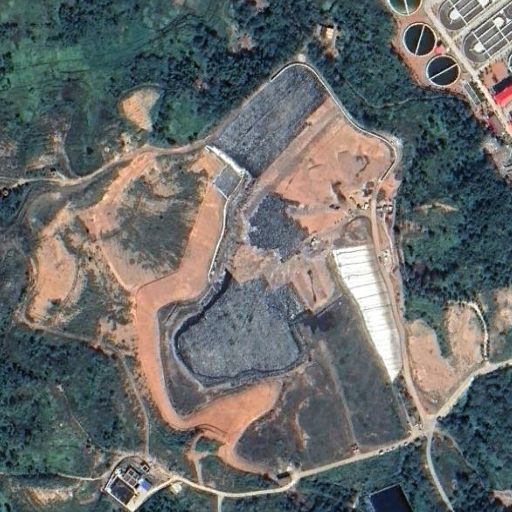lf: (172, 61, 398, 384)
